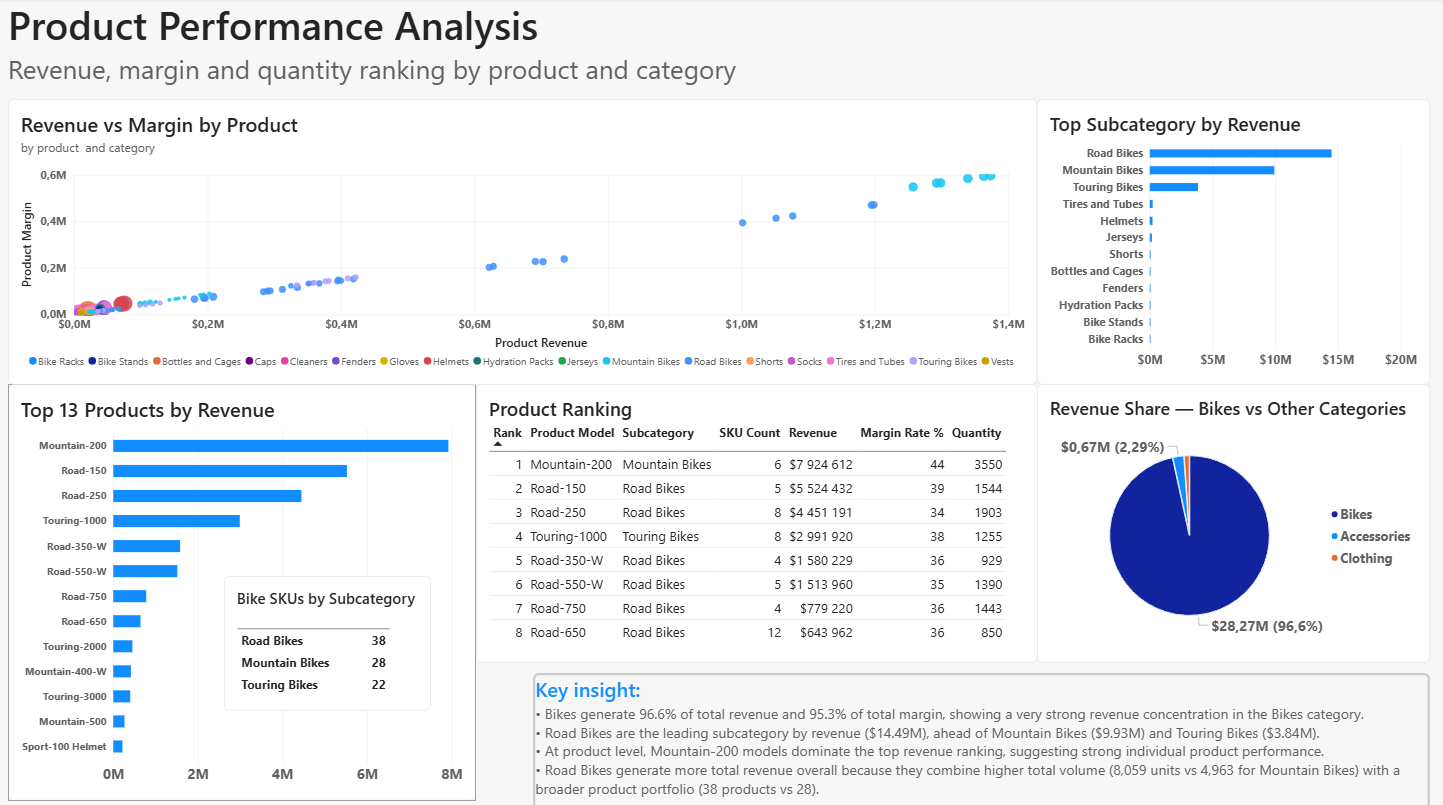

This screenshot's page, from the dashboard's own definition file:
{"tool":"powerbi","page":{"name":"Product Performance Analysis","canvas":[1920,1080],"ordinal":1},"visuals":[{"type":"textbox","title":"Product Performance Analysis","box":[10.5,0,1125.5,120.2],"z":0},{"type":"barChart","title":"Top 13 Products by Revenue","fields":{"Category":["product_model_performance_summary.product_model"],"Y":["Measures (2).Model Revenue"]},"box":[10.5,514,622,554],"z":1000},{"type":"scatterChart","title":"Revenue vs Margin by Product","fields":{"Category":["product_performance_summary.product_name"],"Series":["product_performance_summary.subcategory"],"Size":["Measures (2).Product Quantity"],"X":["Measures (2).Product Revenue"],"Y":["Measures (2).Product Margin"]},"box":[10.5,134.2,1369.4,379.8],"z":2000},{"type":"barChart","title":"Top Subcategory by Revenue","fields":{"Category":["product_performance_summary.subcategory"],"Y":["Measures (2).Product Revenue"]},"box":[1379.9,134.2,522.7,379.8],"z":3000},{"type":"textbox","title":"Key insight: ","box":[709.1,897.3,1193.5,182.9],"z":5000},{"type":"donutChart","title":"Revenue Share — Bikes vs Other Categories","fields":{"Category":["product_performance_summary.category"],"Y":["Measures (2).Product Revenue"]},"box":[1379.9,514,522.7,371.1],"z":6000},{"type":"tableEx","title":" Product Ranking ","fields":{"Values":["product_model_performance_summary.revenue_rank","product_model_performance_summary.product_model","product_model_performance_summary.subcategory","product_model_performance_summary.sku_count","Sum(product_model_performance_summary.total_revenue)","product_model_performance_summary.total_margin_rate_percent","Sum(product_model_performance_summary.total_quantity_sold)"]},"box":[632.5,514,747.4,371.1],"z":7000},{"type":"tableEx","title":"Bike SKUs by Subcategory","fields":{"Values":["product_performance_summary.subcategory","Measures (2).Product Count"]},"box":[297.9,768.3,275.3,179.5],"z":7001}]}

Visuals, with their boxes in screenshot pixels (x1, y1, x2, y2), scaled from the page's 1920x1080 canvas onto the 1443x805 screenshot:
"Product Performance Analysis" textbox: <box>8,0,854,90</box>
"Top 13 Products by Revenue" barChart: <box>8,383,475,796</box>
"Revenue vs Margin by Product" scatterChart: <box>8,100,1037,383</box>
"Top Subcategory by Revenue" barChart: <box>1037,100,1430,383</box>
"Key insight: " textbox: <box>533,669,1430,804</box>
"Revenue Share — Bikes vs Other Categories" donutChart: <box>1037,383,1430,660</box>
" Product Ranking " tableEx: <box>475,383,1037,660</box>
"Bike SKUs by Subcategory" tableEx: <box>224,573,431,706</box>
